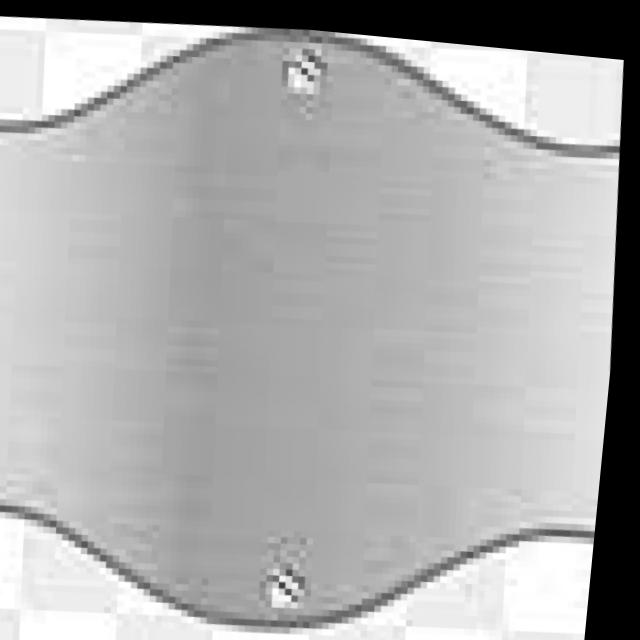metal-plates: (1, 26, 623, 628)
